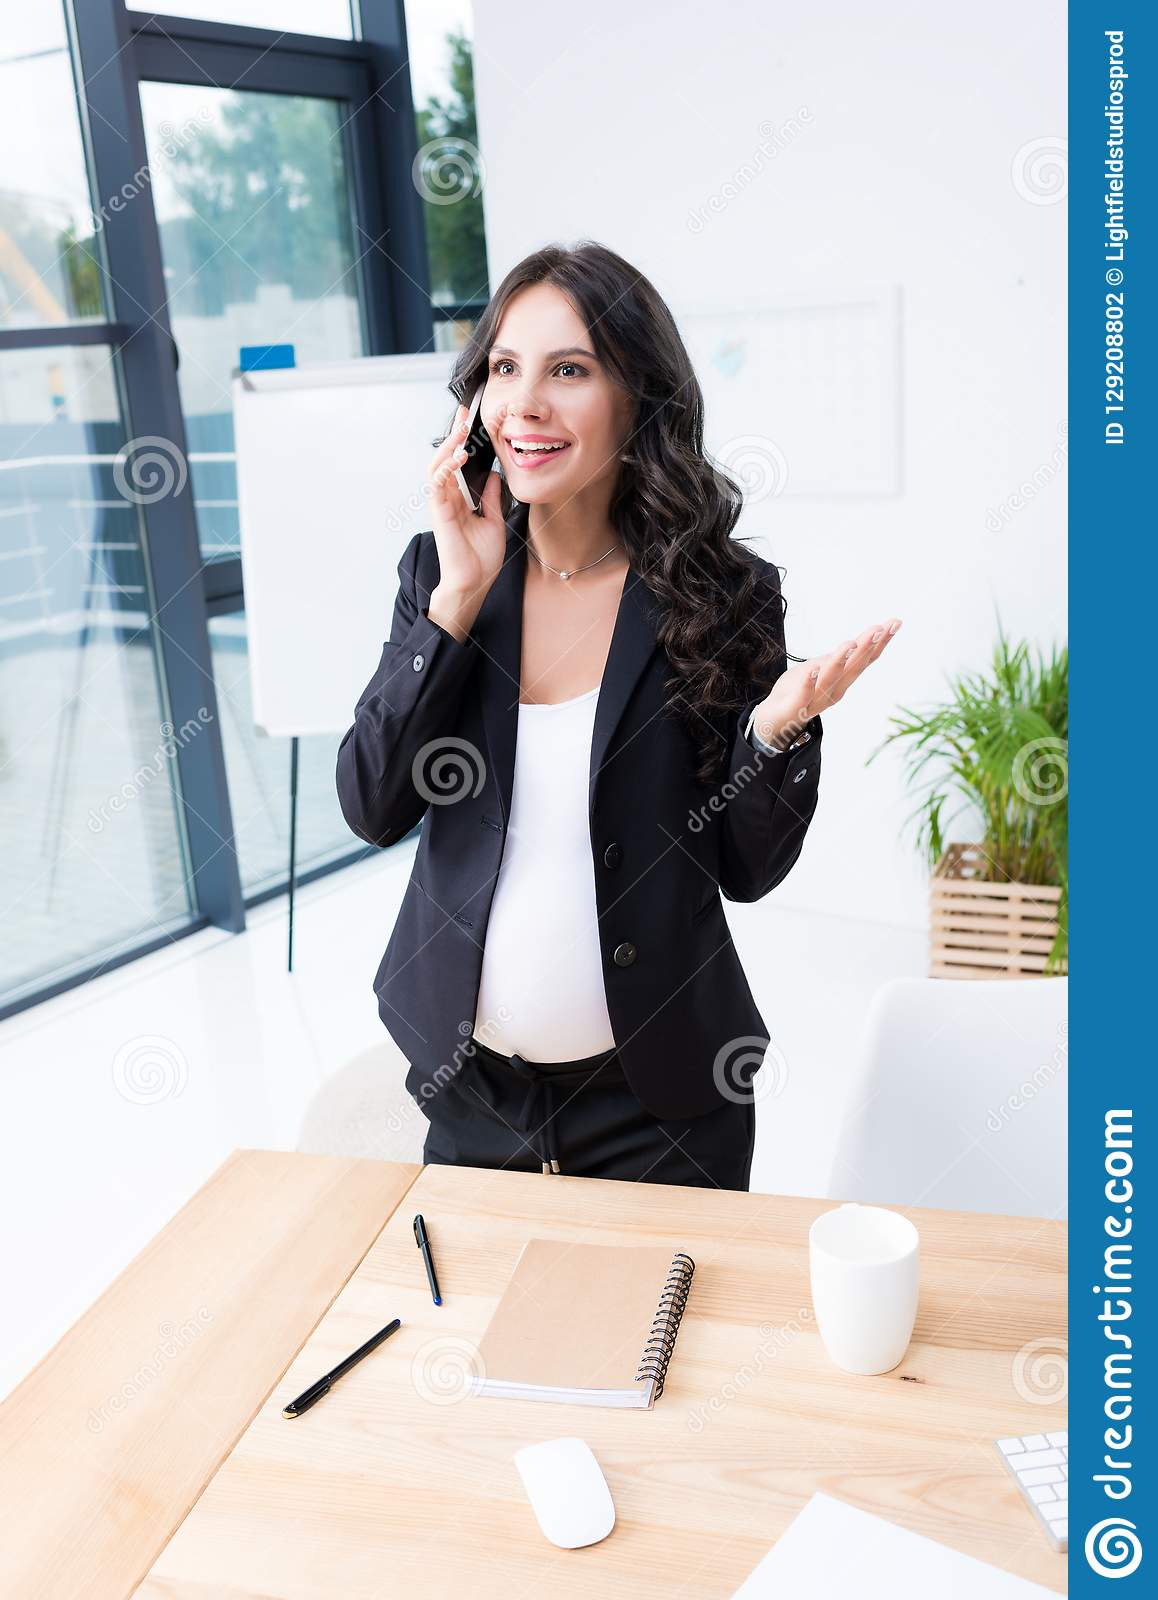phone: (452, 383, 496, 519)
talk: (422, 333, 614, 601)
